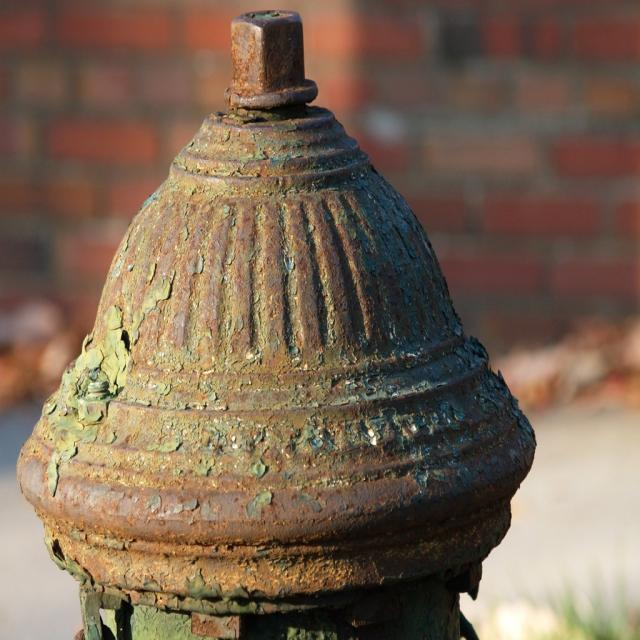fire_hydrant: (18, 8, 534, 639)
